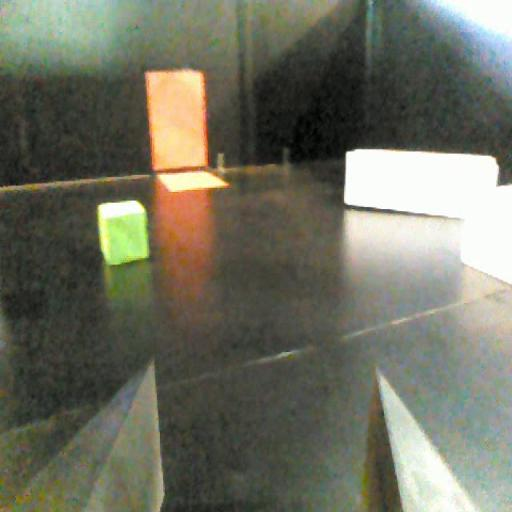cube: (92, 198, 152, 269)
